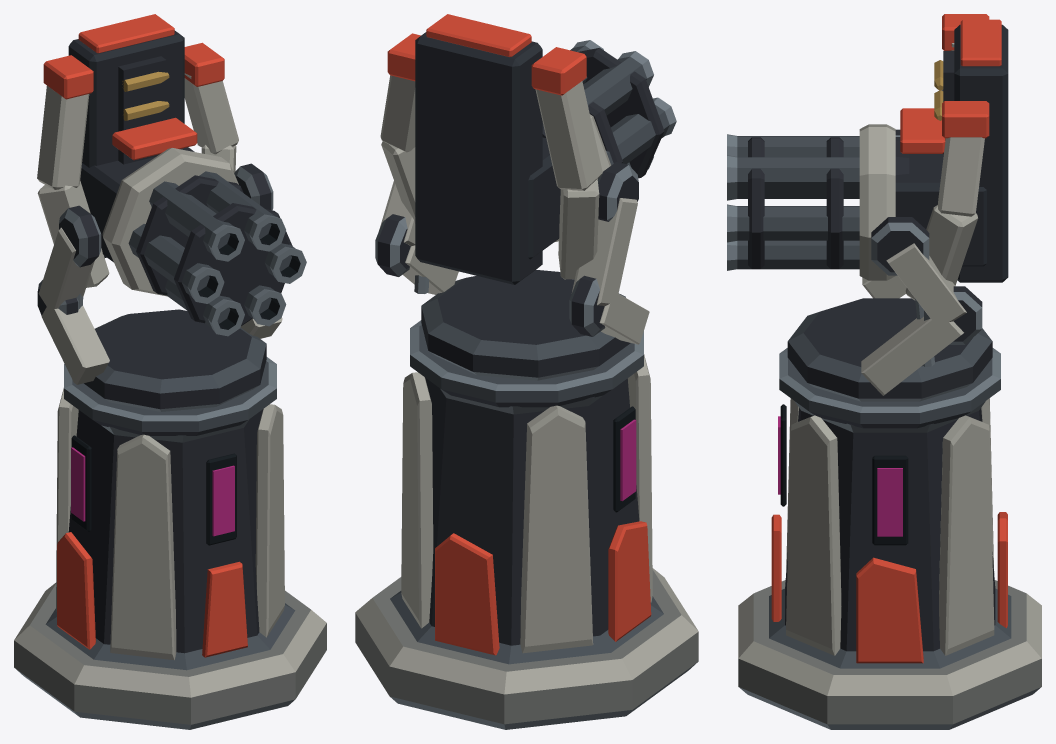
Rendered from lv4_cadence.glb.
3 views of the same model, side by side, from view 1: azimuth 30°, elevation 25°; view 2: azimuth 150°, elevation 25°; view 3: azimuth 270°, elevation 25° (orthographic). The views are drawn at different scales.
Visible parts, largest first — view 1: Base, Barrel_Recoil, Turret_Yaw, Team_Panels, Base_TeamColor; view 2: Base, Barrel_Recoil, Turret_Yaw, Base_TeamColor, Team_Panels; view 3: Base, Barrel_Recoil, Turret_Yaw, Base_TeamColor, Team_Panels.
Part boxes in pixels (x1,y1,x2,y2): Base: (14,357,326,729); Barrel_Recoil: (37,30,306,336); Turret_Yaw: (37,163,282,411); Team_Panels: (43,14,224,160); Base_TeamColor: (57,532,247,657); Base: (355,320,698,729); Barrel_Recoil: (380,32,676,284); Turret_Yaw: (375,162,649,380); Base_TeamColor: (435,521,651,655); Team_Panels: (387,14,586,95); Base: (738,348,1041,729); Barrel_Recoil: (727,24,1008,300); Turret_Yaw: (787,129,992,401); Base_TeamColor: (771,512,1007,663); Team_Panels: (900,14,1001,153).
Size of the model in its own units: 1.66 by 3.8 by 1.72.
